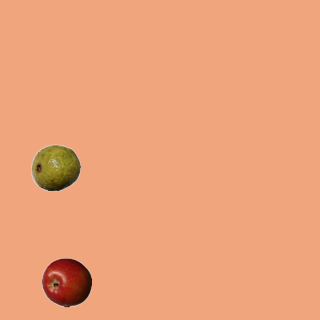Apple Braeburn: (41, 257, 91, 307)
Guava: (30, 142, 80, 192)
